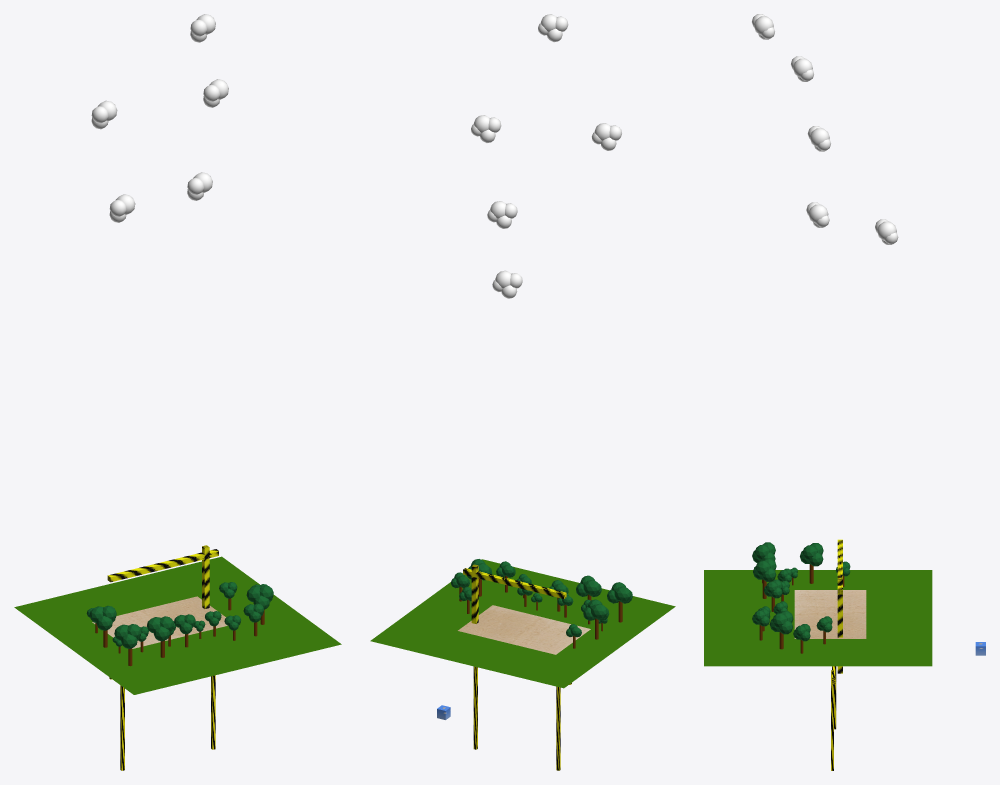
3 renders of one model, left to right at view 1: azimuth 30°, elevation 25°; view 2: azimuth 150°, elevation 25°; view 3: azimuth 270°, elevation 25°, orthographic. The views are drawn at different scales.
Parts seen in each view (by area): view 1: Floor, sand, crane2, crane, tree.010, tree.004, tree.005; view 2: Floor, sand, crane2, crane, cloud.002, cloud, cloud.001, cloud.004, cloud.003, tree.004; view 3: Floor, sand, crane2, tree.010, tree.001, tree.005, crane.
Part boxes in pixels (x1=…): Floor: x1=14, y1=556, x2=341, y2=694; sand: x1=92, y1=596, x2=227, y2=648; crane2: x1=107, y1=545, x2=218, y2=608; crane: x1=109, y1=675, x2=215, y2=770; tree.010: x1=89, y1=605, x2=116, y2=647; tree.004: x1=114, y1=624, x2=141, y2=666; tree.005: x1=146, y1=616, x2=173, y2=657; Floor: x1=370, y1=559, x2=675, y2=688; sand: x1=458, y1=605, x2=590, y2=654; crane2: x1=463, y1=564, x2=566, y2=623; crane: x1=473, y1=666, x2=571, y2=770; cloud.002: x1=487, y1=201, x2=517, y2=228; cloud: x1=538, y1=14, x2=568, y2=42; cloud.001: x1=591, y1=123, x2=621, y2=150; cloud.004: x1=471, y1=115, x2=501, y2=142; cloud.003: x1=492, y1=270, x2=522, y2=298; tree.004: x1=607, y1=582, x2=632, y2=622; Floor: x1=704, y1=570, x2=932, y2=666; sand: x1=794, y1=590, x2=866, y2=638; crane2: x1=837, y1=539, x2=842, y2=673; tree.010: x1=800, y1=543, x2=823, y2=583; tree.001: x1=769, y1=611, x2=793, y2=649; tree.005: x1=753, y1=558, x2=776, y2=598; crane: x1=831, y1=666, x2=836, y2=770.
Bounding box in the file's own units: 44 × 156 × 54.36.
Materials: 10 (10 with a texture image).
